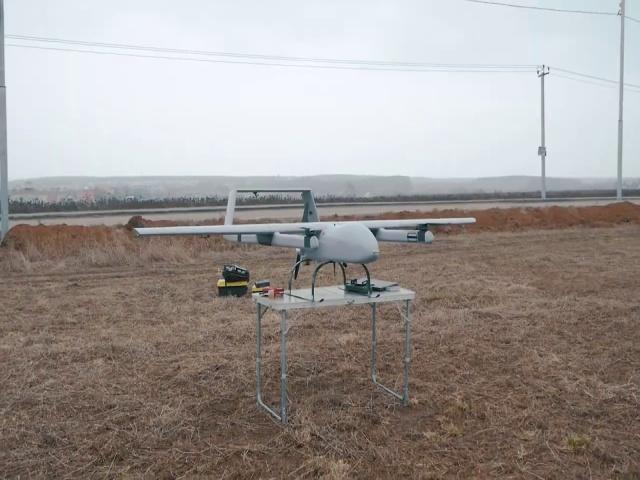Airplane: (127, 180, 488, 310)
